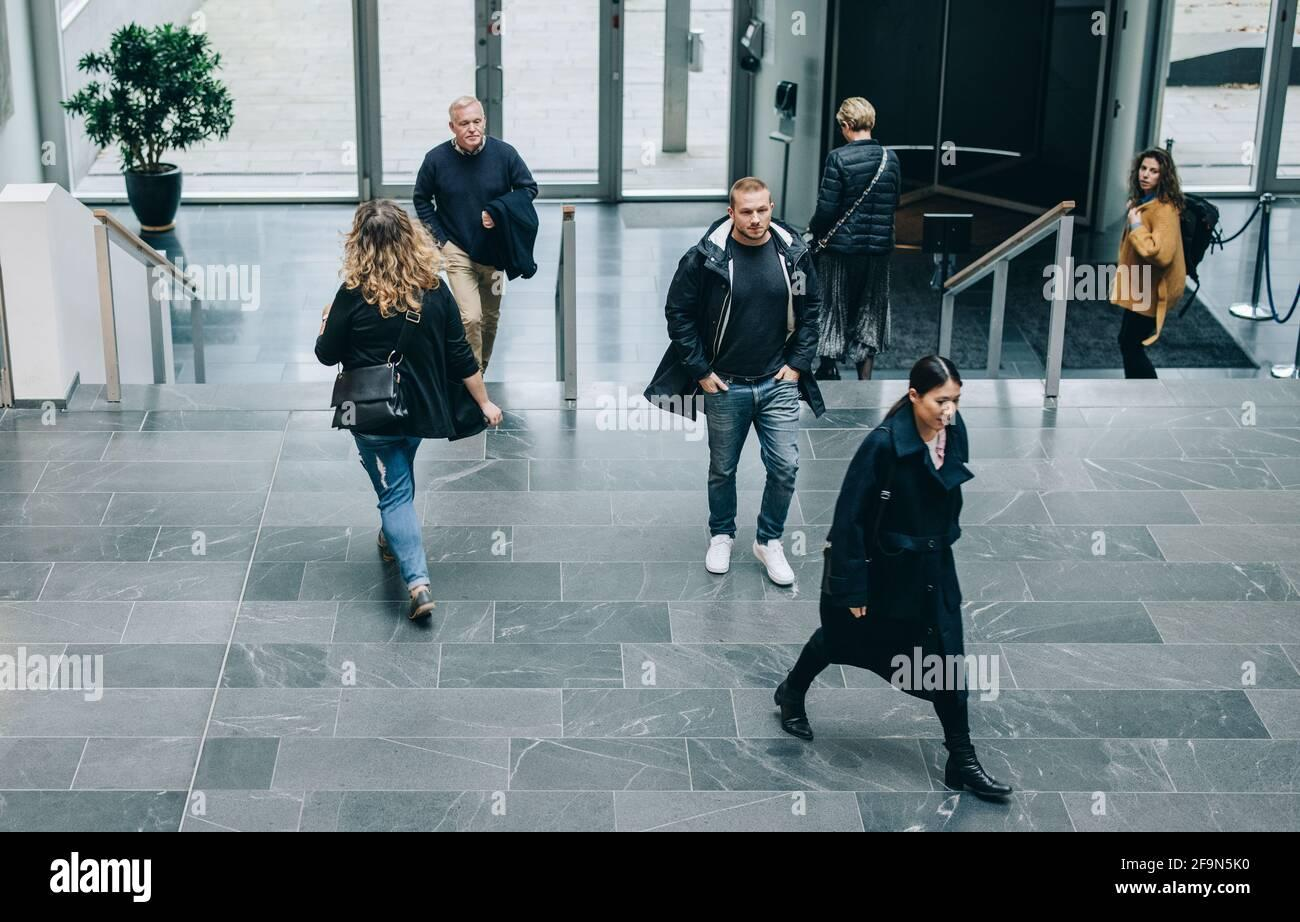coat: (816, 394, 976, 690), (643, 209, 828, 424), (809, 140, 901, 254)
jacket: (313, 265, 492, 442), (1112, 201, 1187, 331)
sweater: (408, 133, 540, 267), (718, 235, 793, 387)
trousers: (703, 378, 804, 541), (349, 424, 439, 593), (443, 242, 508, 387), (1113, 303, 1162, 378)
